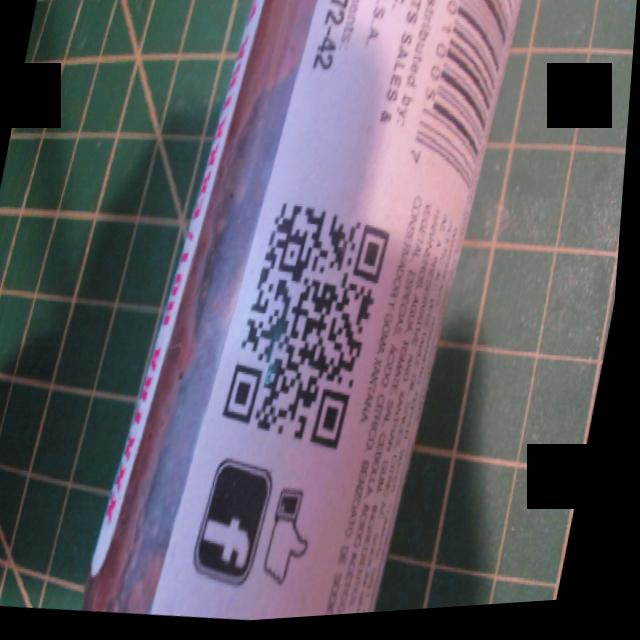QR_CODE: (205, 182, 412, 482)
